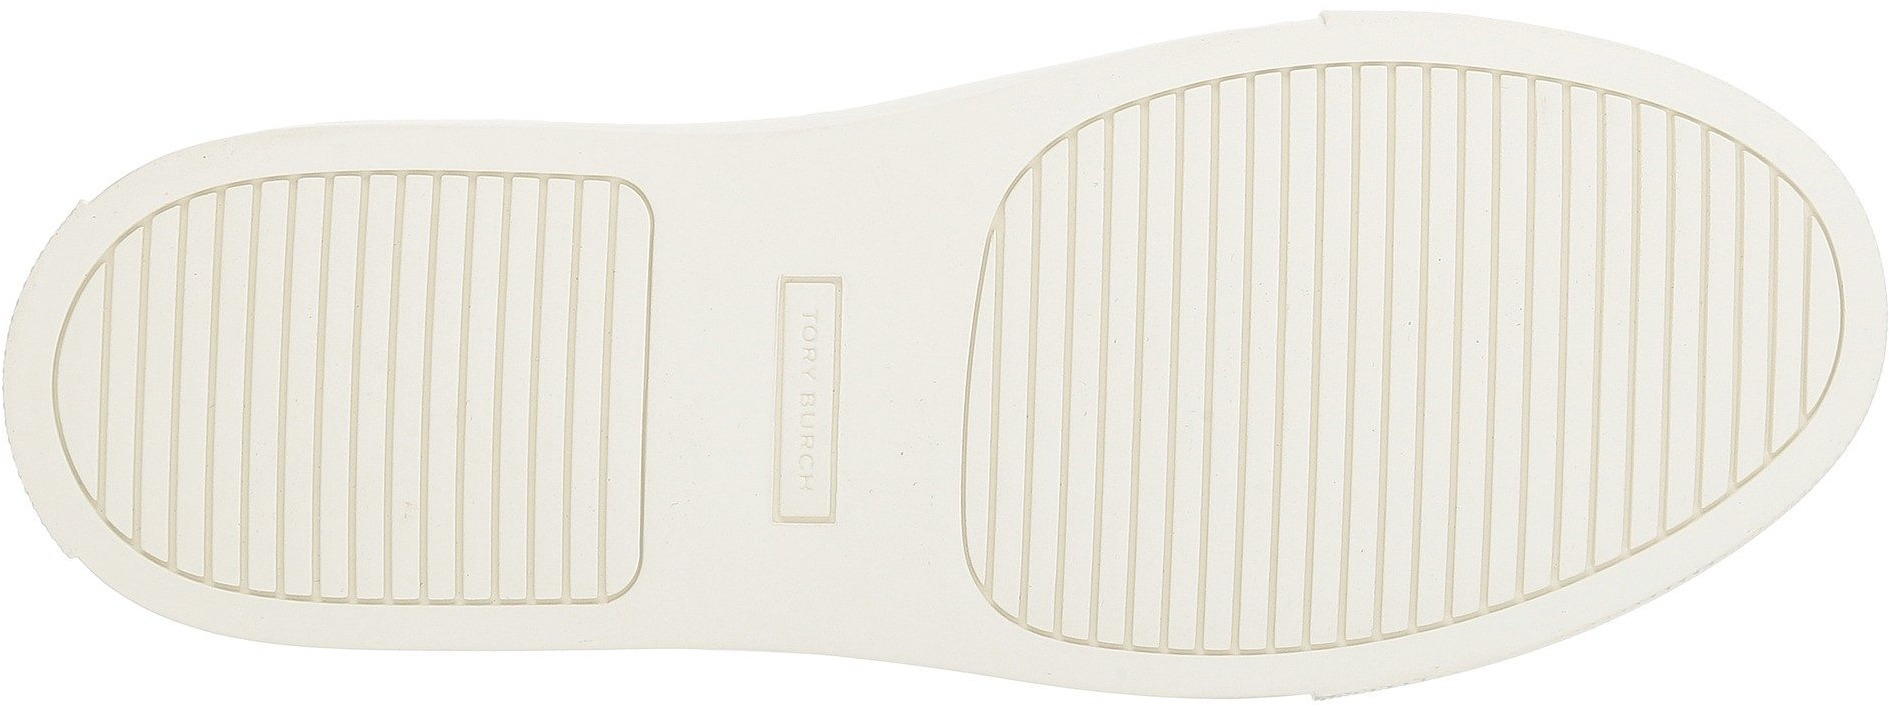line: (1361, 137, 1725, 504), (1026, 167, 1360, 518), (367, 208, 640, 498), (108, 252, 365, 528), (1194, 526, 1316, 642)
other: (832, 123, 971, 261)
quad: (678, 267, 920, 539)
text: (678, 267, 920, 539), (781, 308, 838, 361), (781, 396, 824, 447), (784, 460, 826, 504)
